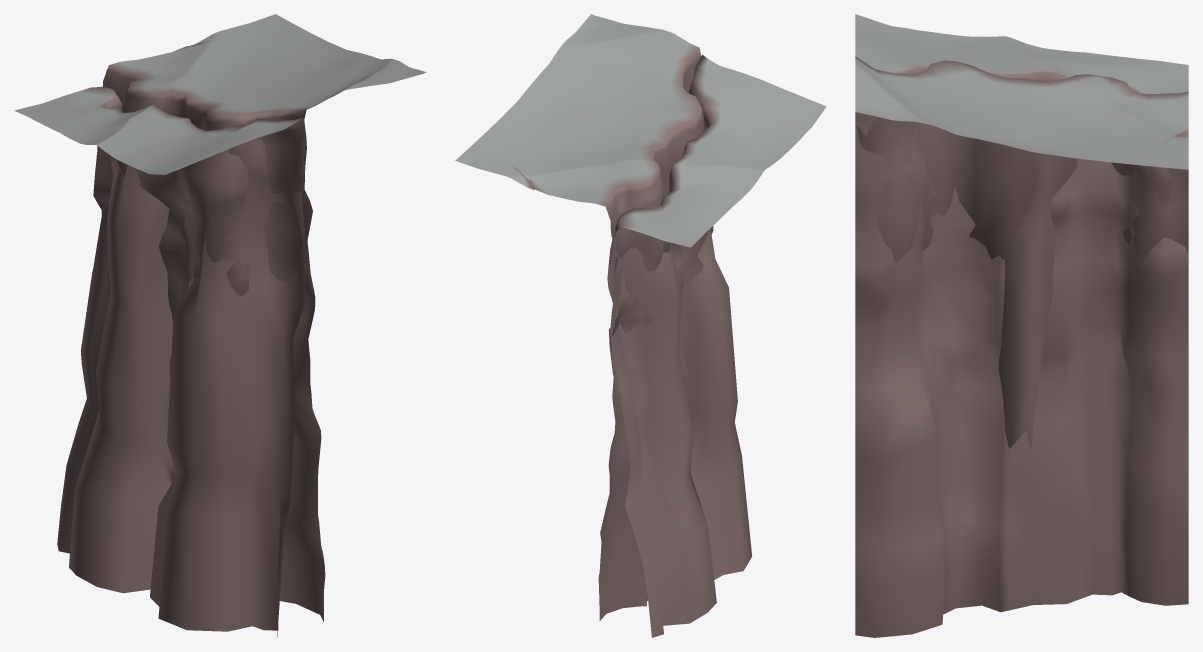
The picture shows the model from 3 angles, left to right: view 1: azimuth 30°, elevation 25°; view 2: azimuth 150°, elevation 25°; view 3: azimuth 270°, elevation 25°; orthographic projection. The views are drawn at different scales.
Visible parts, largest first — view 1: G:\FFXIV-MapTools\exports\u5f1\bg\ex4\04_uvs_u5\fld\u5f1\bgp (×8); view 2: G:\FFXIV-MapTools\exports\u5f1\bg\ex4\04_uvs_u5\fld\u5f1\bgp (×8); view 3: G:\FFXIV-MapTools\exports\u5f1\bg\ex4\04_uvs_u5\fld\u5f1\bgp (×8).
Part boxes in pixels (x1,y1,x2,y2): G:\FFXIV-MapTools\exports\u5f1\bg\ex4\04_uvs_u5\fld\u5f1\bgp (×8): [14, 14, 426, 637]; G:\FFXIV-MapTools\exports\u5f1\bg\ex4\04_uvs_u5\fld\u5f1\bgp (×8): [455, 14, 826, 637]; G:\FFXIV-MapTools\exports\u5f1\bg\ex4\04_uvs_u5\fld\u5f1\bgp (×8): [855, 14, 1188, 637].
Bounding box in the file's own units: 128 × 248 × 128.
